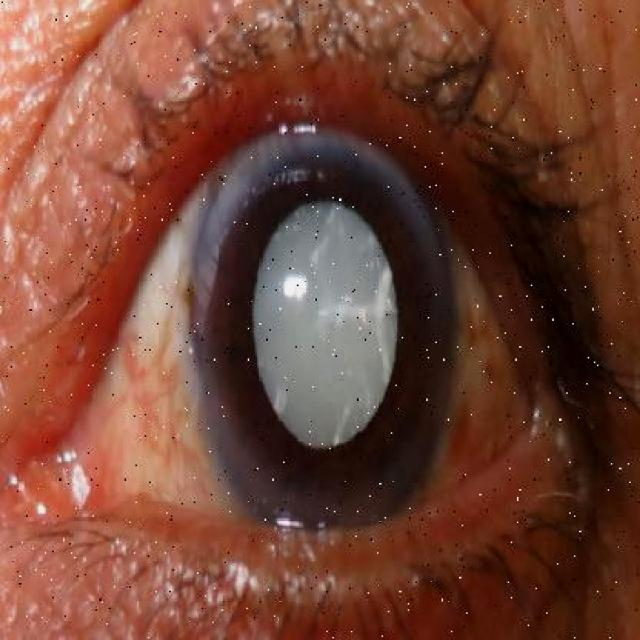Cataract: (177, 119, 458, 536)
